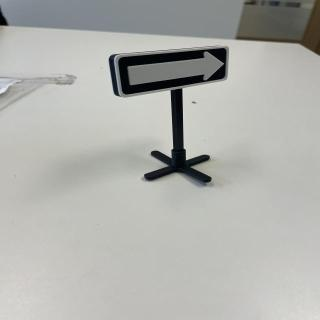sign_oneway_right: (105, 50, 237, 96)
